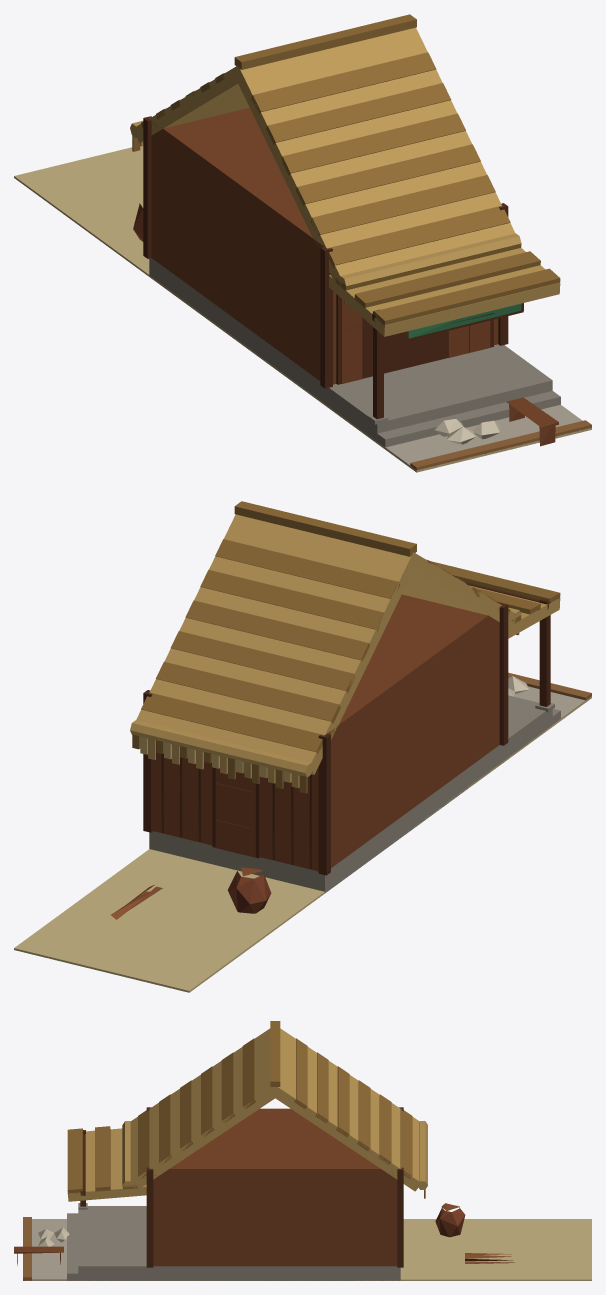
Rendered from bay1_mid2.glb.
3 renders of one model, top to bottom at view 1: azimuth 30°, elevation 25°; view 2: azimuth 150°, elevation 25°; view 3: azimuth 270°, elevation 25°, orthographic. The views are drawn at different scales.
Visible parts, largest first — view 1: body; view 2: body; view 3: body.
Part boxes in pixels (box(x1,y1,x2,y2)): body: box(14, 14, 591, 472); body: box(14, 501, 591, 992); body: box(14, 1021, 591, 1280).
Size of the model in its own units: 4.18 by 6.16 by 16.15.
